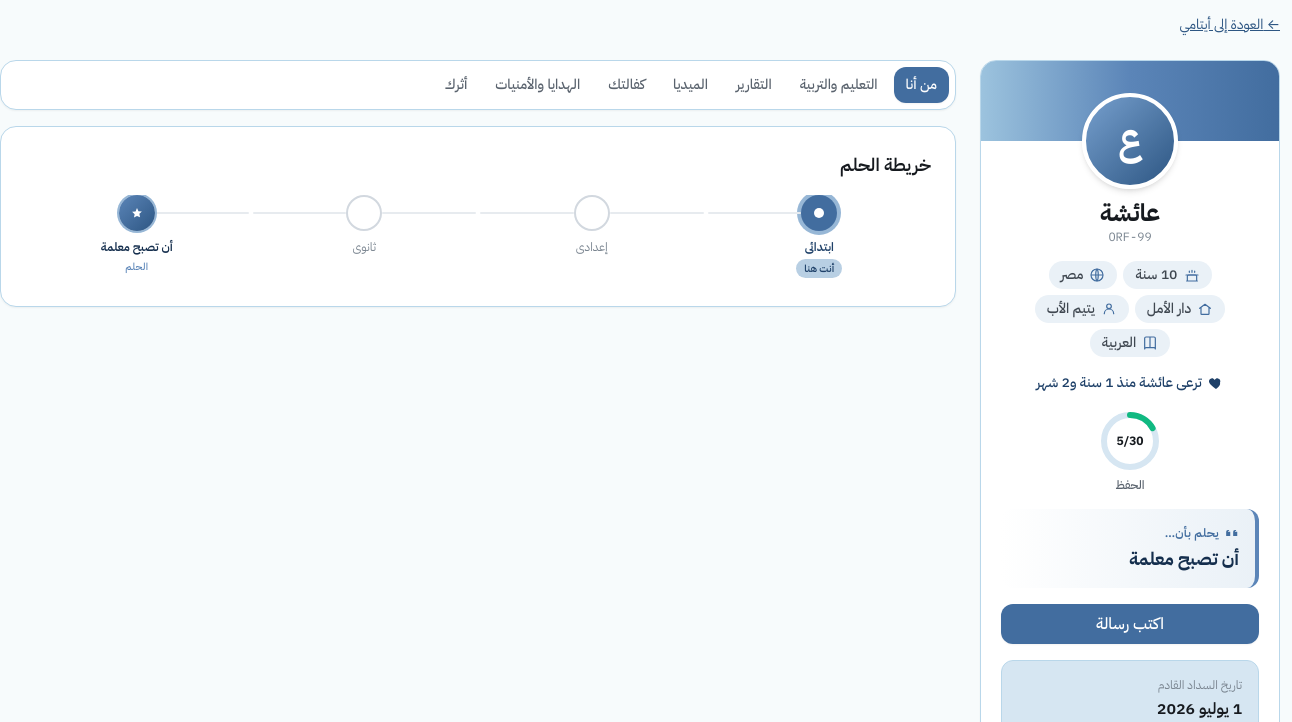
DonorOrphanDetailPage — v4 app-shell (tabs + rail) › shows a gentle empty state for a tab with no present sections
The width and height of the screenshot is (1292, 722).
Check: the heading "عائشة" is shown, box [1100, 197, 1160, 229]
Step 1. Click the tab "الهدايا والأمنيات" → (538,85), box [483, 67, 592, 103]
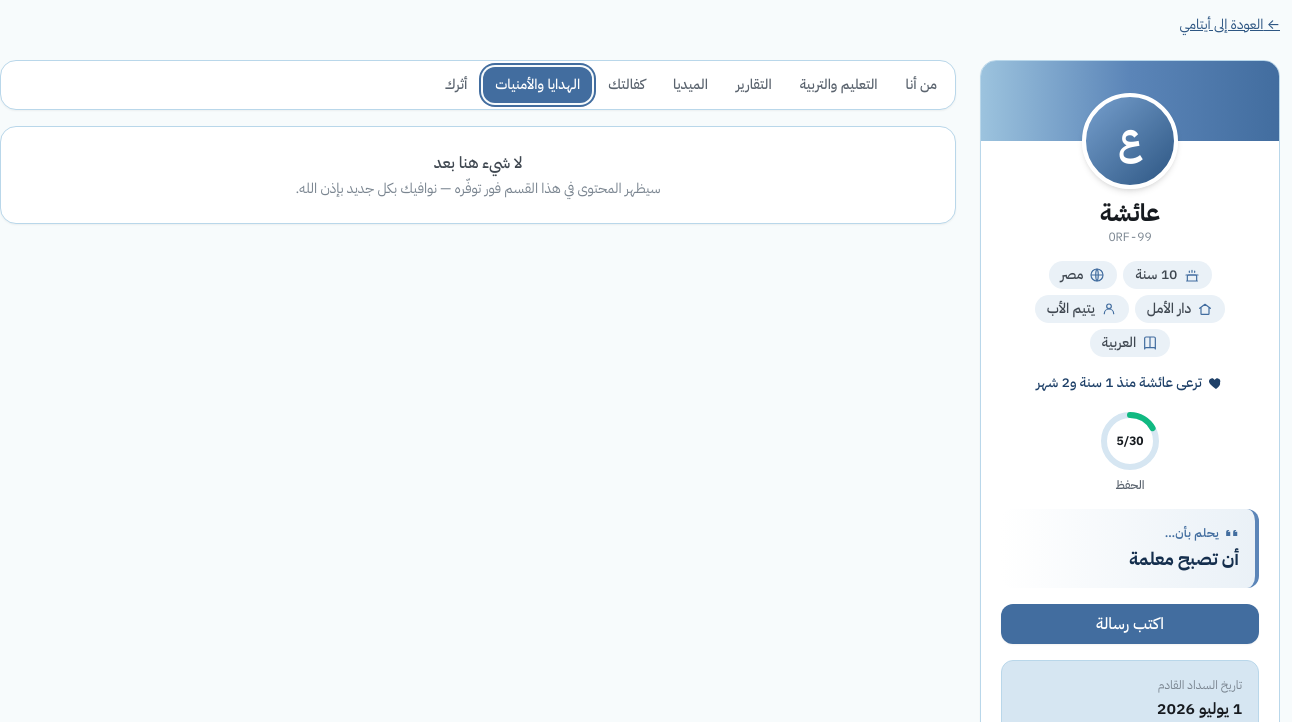
Check: the text "لا شيء هنا بعد" is shown, box [434, 151, 522, 175]
